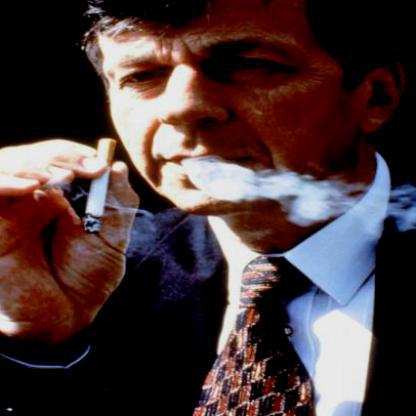cigarette: (76, 134, 122, 238)
person: (69, 2, 416, 415)
smoke: (185, 163, 415, 230)
